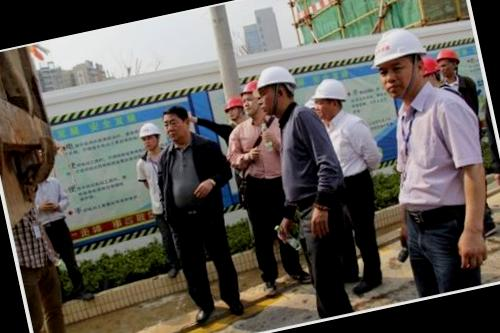no_helmet: (158, 100, 194, 144)
